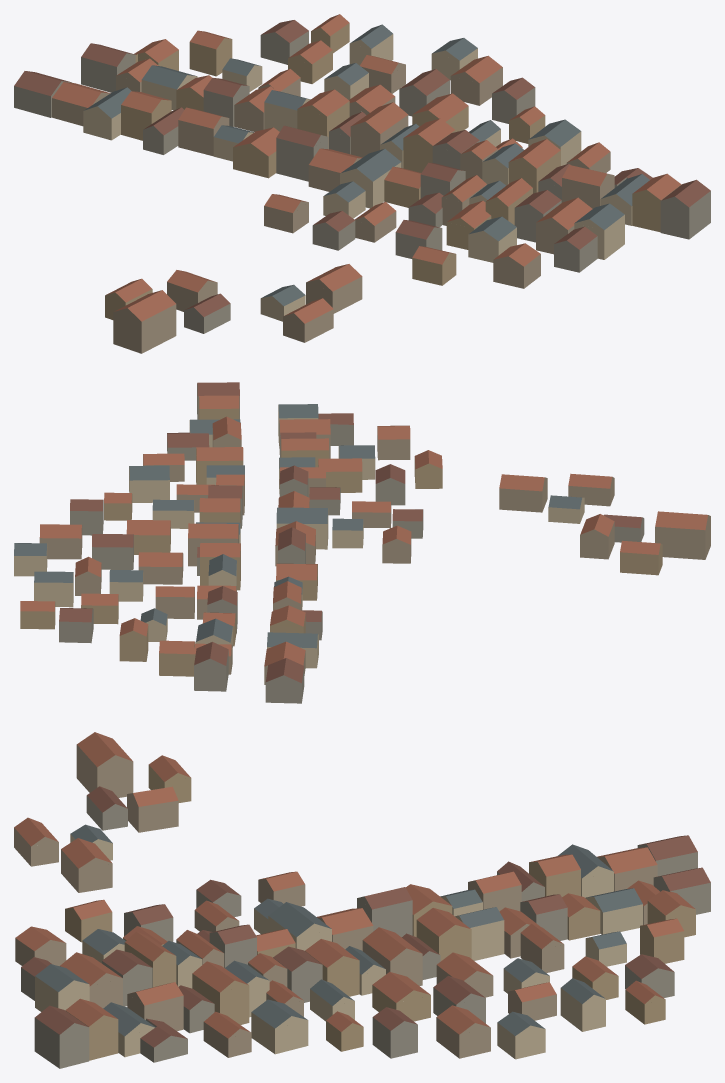
The picture shows the model from 3 angles, top to bottom: view 1: azimuth 30°, elevation 25°; view 2: azimuth 150°, elevation 25°; view 3: azimuth 270°, elevation 25°; orthographic projection. The views are drawn at different scales.
Visible parts, largest first — view 1: C_4_-1; view 2: C_4_-1; view 3: C_4_-1.
Boxes of the visible parts, x1,y1,x2,y2 form: C_4_-1: (14, 14, 710, 353); C_4_-1: (14, 382, 710, 703); C_4_-1: (14, 732, 710, 1068).
Bounding box in the file's own units: 192 × 13.96 × 191.
